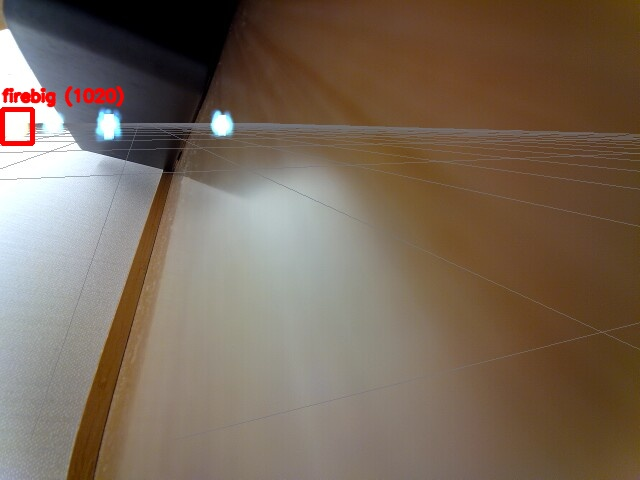firebig: (2, 109, 32, 143)
